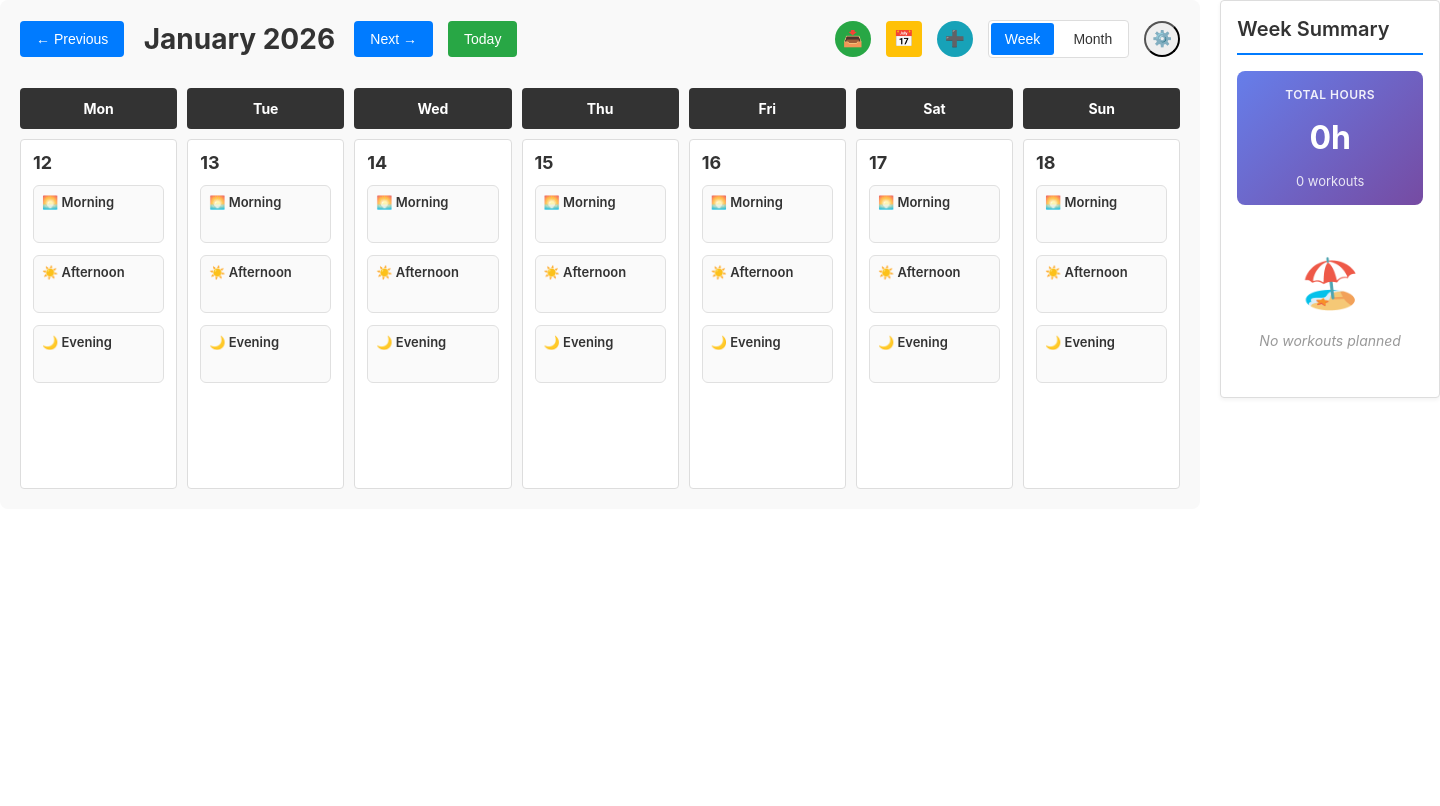
Test: Calendar Component › should navigate multiple months correctly
// Switch to month view first
Click the button "Month": (1093, 39) [1059,23,1126,55]
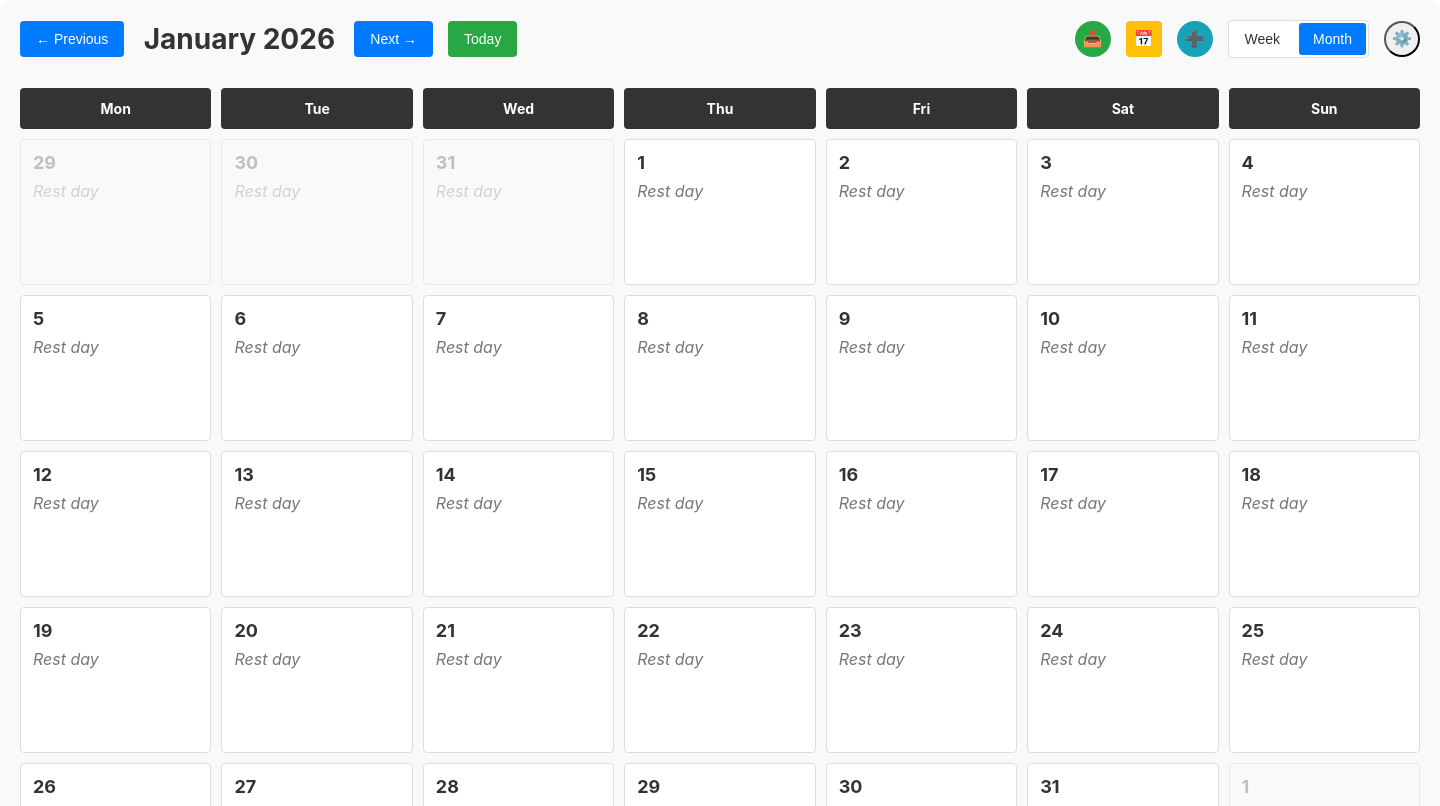
// Go forward 3 months
Click the button "Next →": (394, 39) [354,21,433,57]
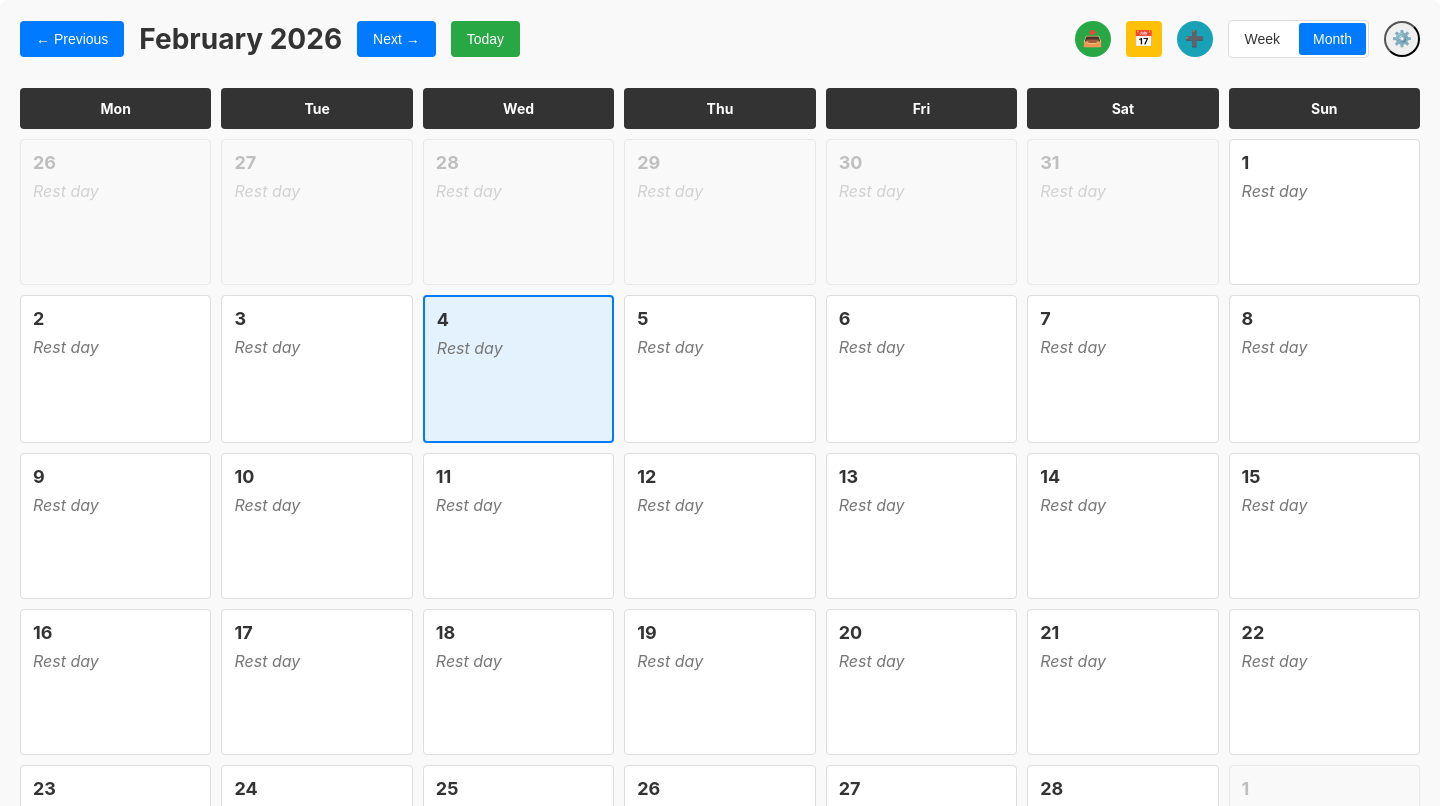
Click the button "Next →": (396, 39) [357,21,436,57]
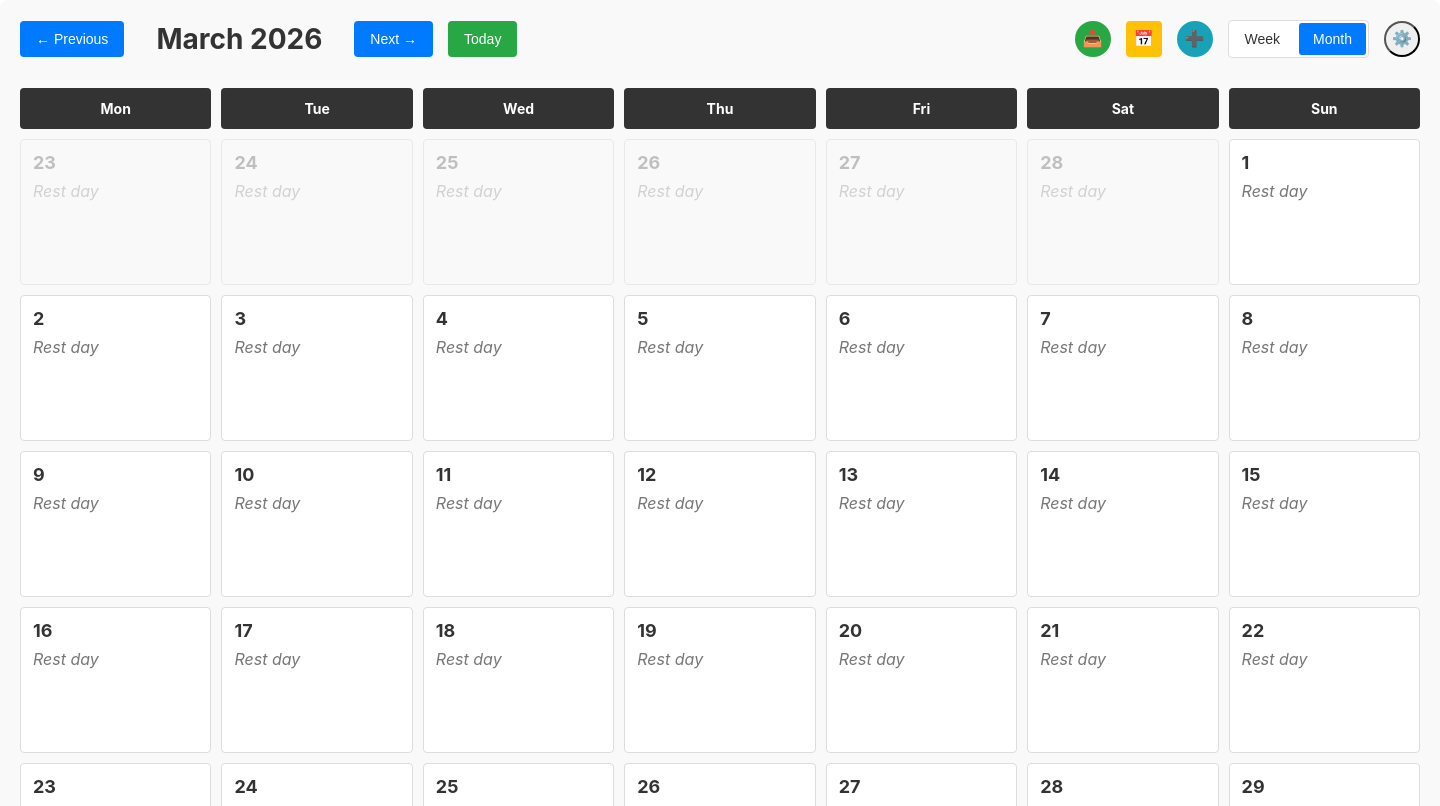
Click the button "Next →": (394, 39) [354,21,433,57]
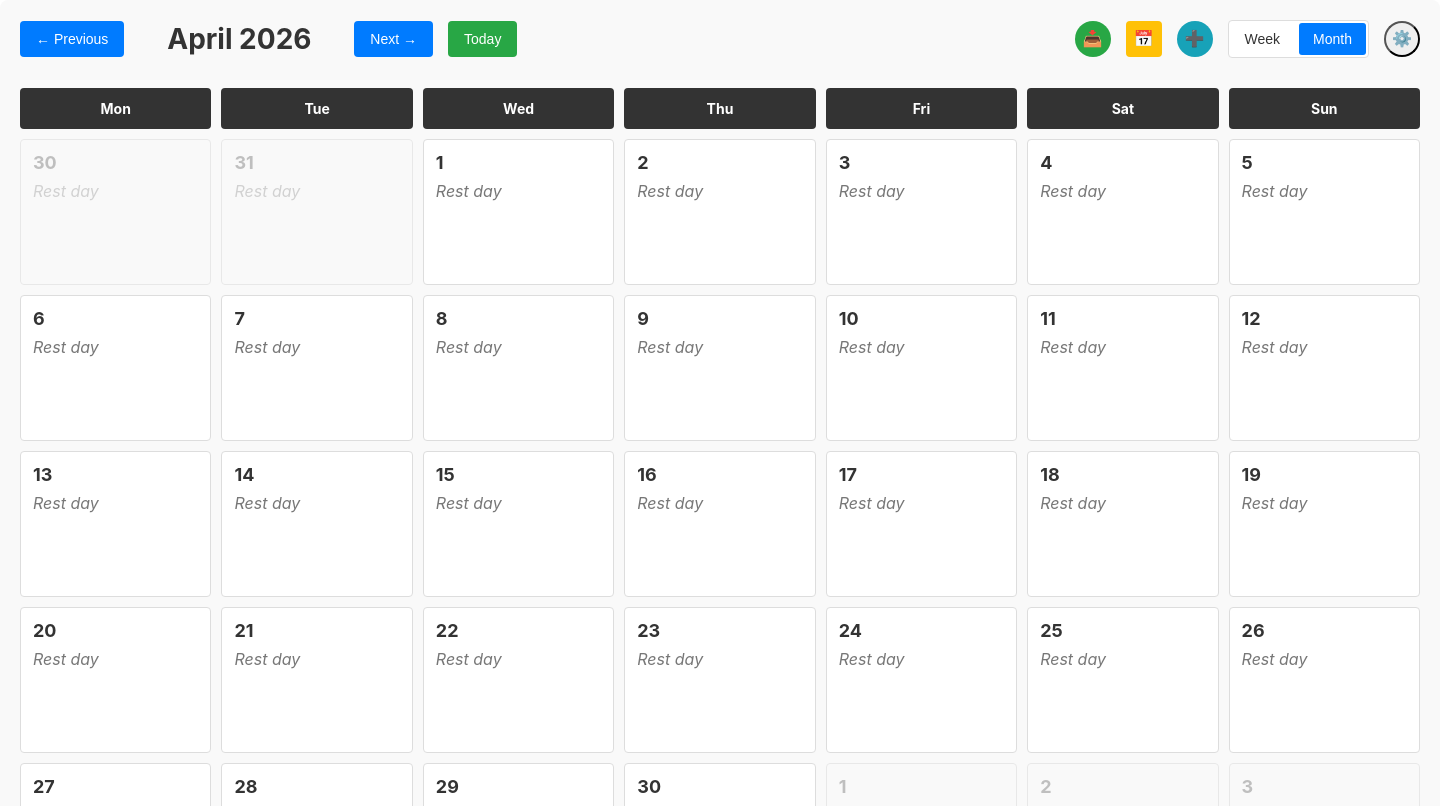
Result: the heading "April 2026" is shown at [167,22,311,56]
